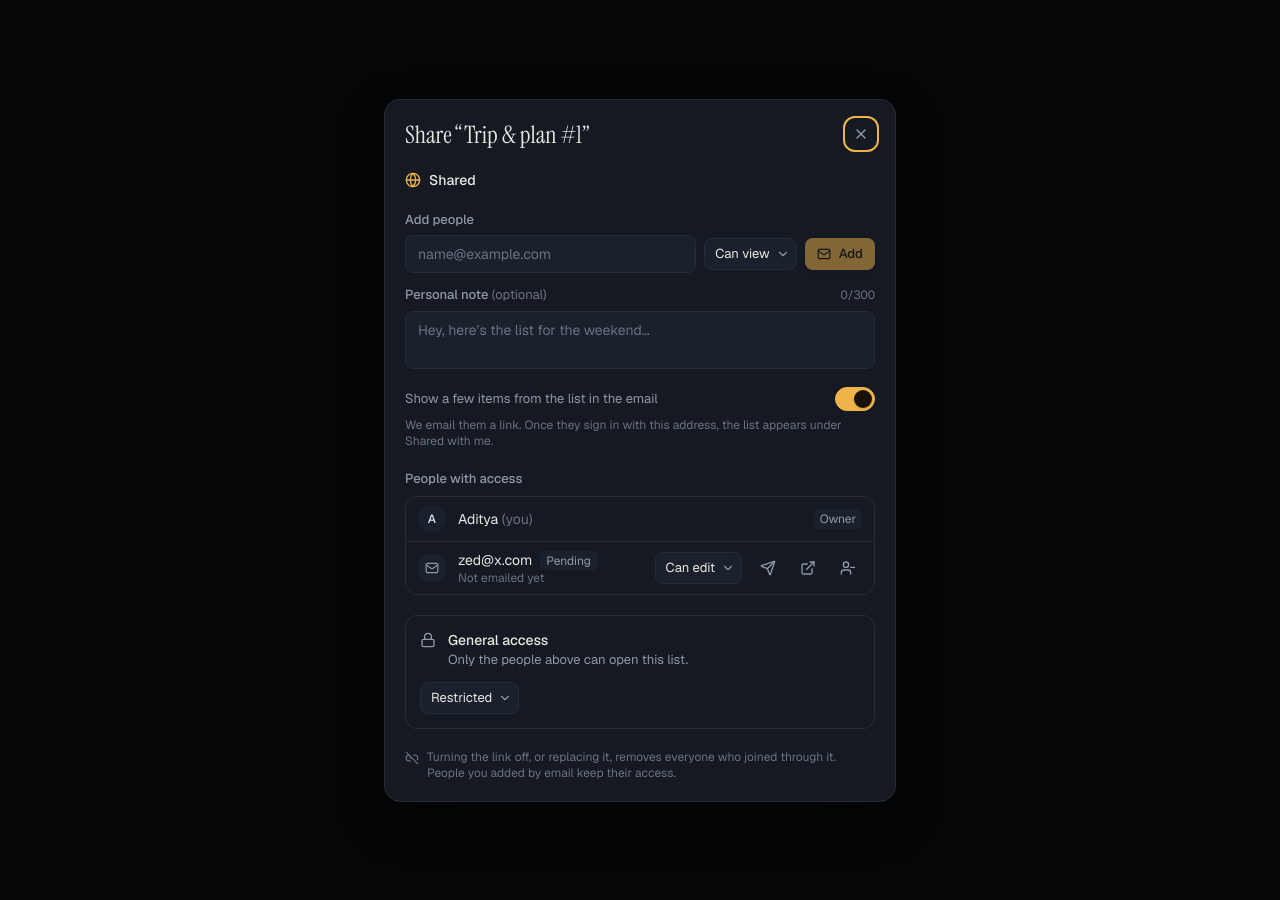
Test: pending invites › explains a refusal (too_many_for_invite) in plain words
Expected: the heading "People with access" is shown, [405,470,522,486]
Click the button named "Email invite to zed@x.com".
click(768, 568)  # box [754,554,782,582]
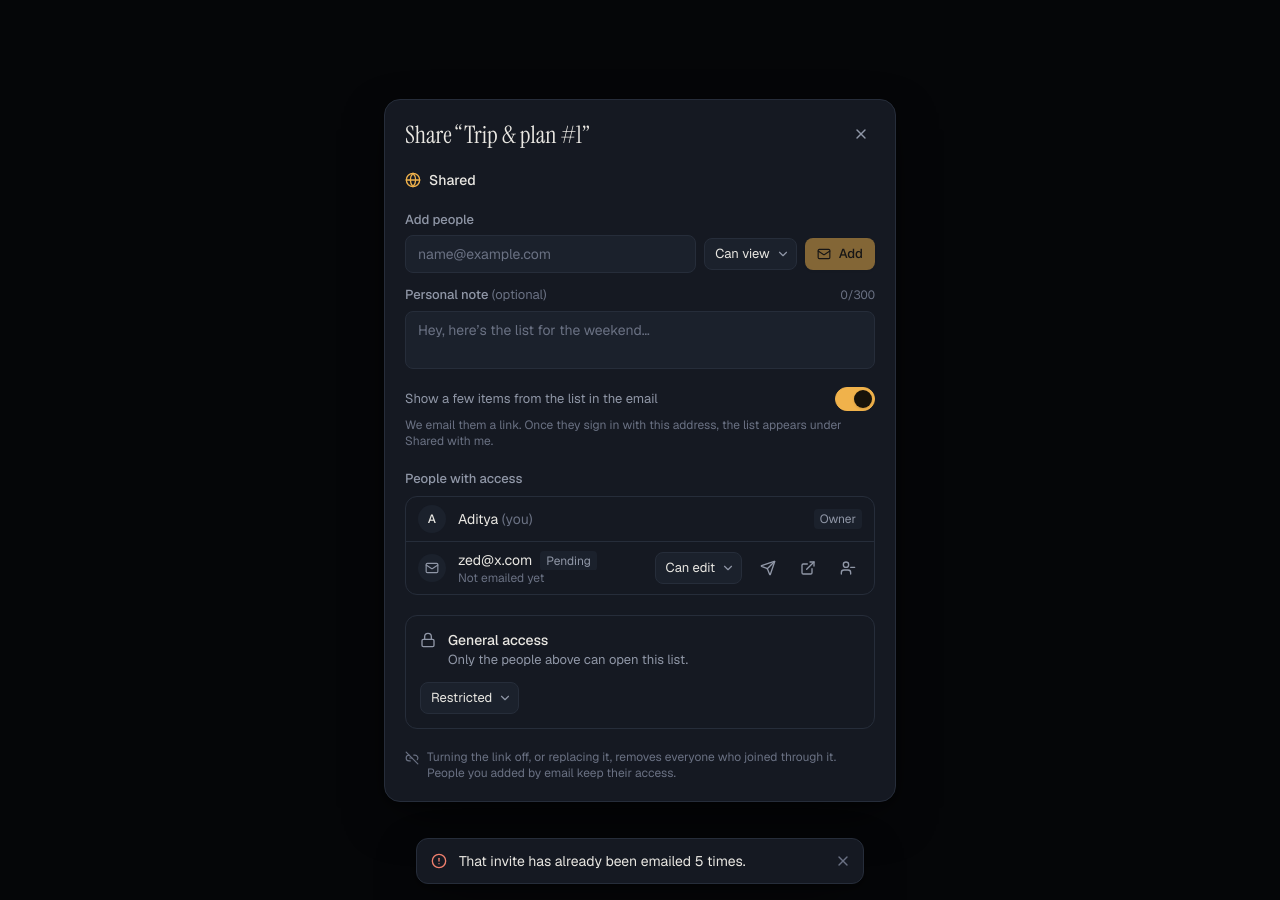
Expected: the text "Not emailed yet" is shown, [458,570,544,586]
Expected: the text "That invite has already been emailed 5 times." is shown, [459,852,746,870]
